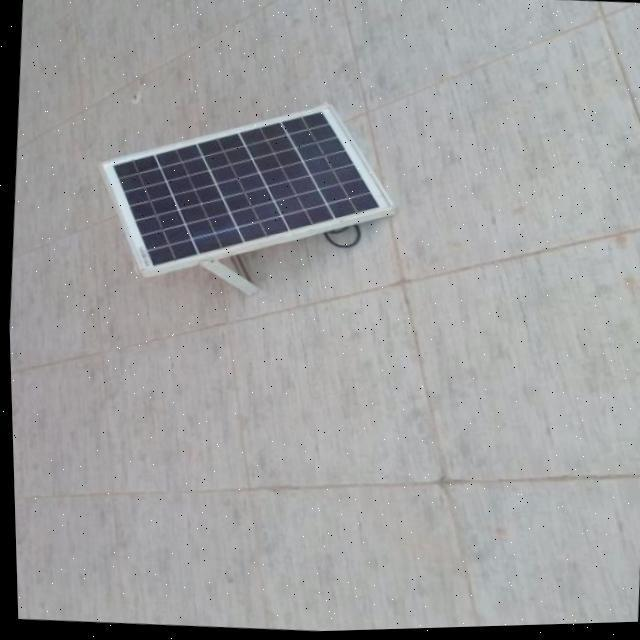Normal Solar Panel: (86, 89, 400, 290)
